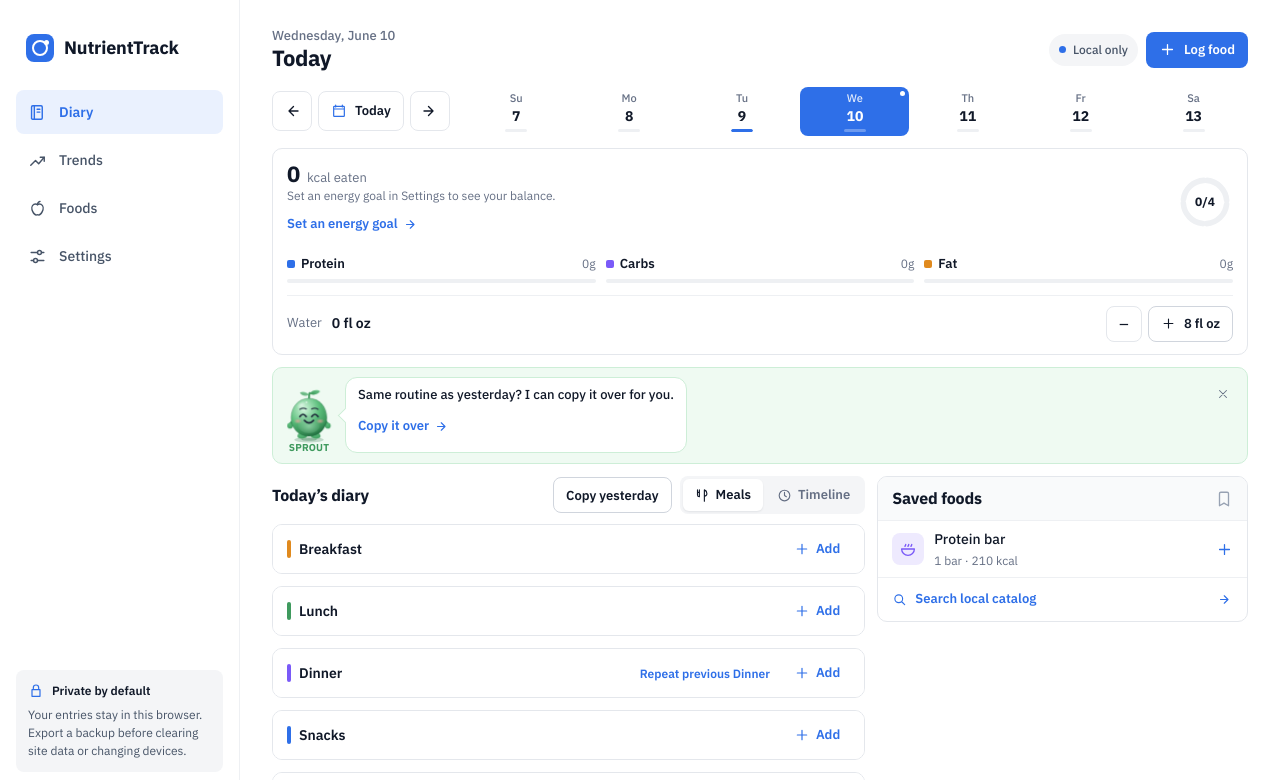
Test case: quick add from the Log food sheet › saves a new entry copying a recent catalog entry snapshot verbatim
Click the button "Log food" at (1197, 50), box [1146,32,1248,68]
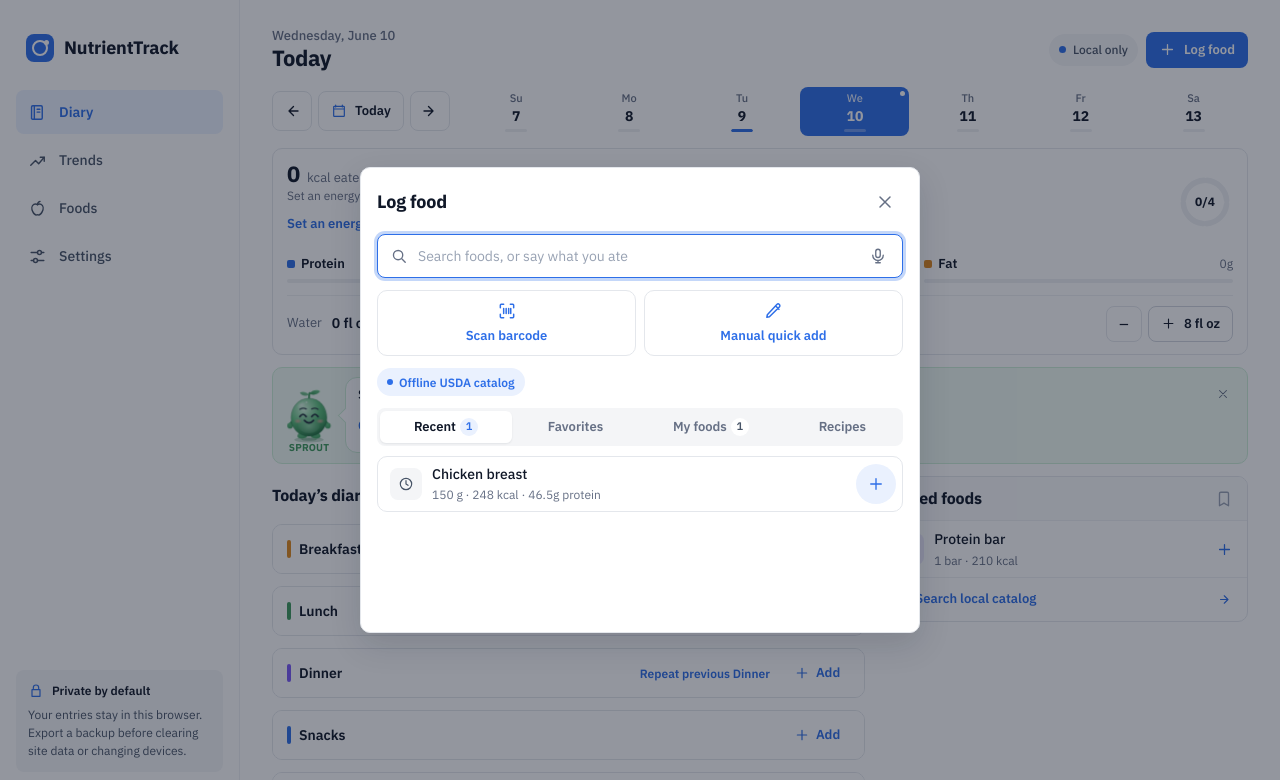
Click the button named "Quick add Chicken breast" at (876, 484), box [856,464,896,504]
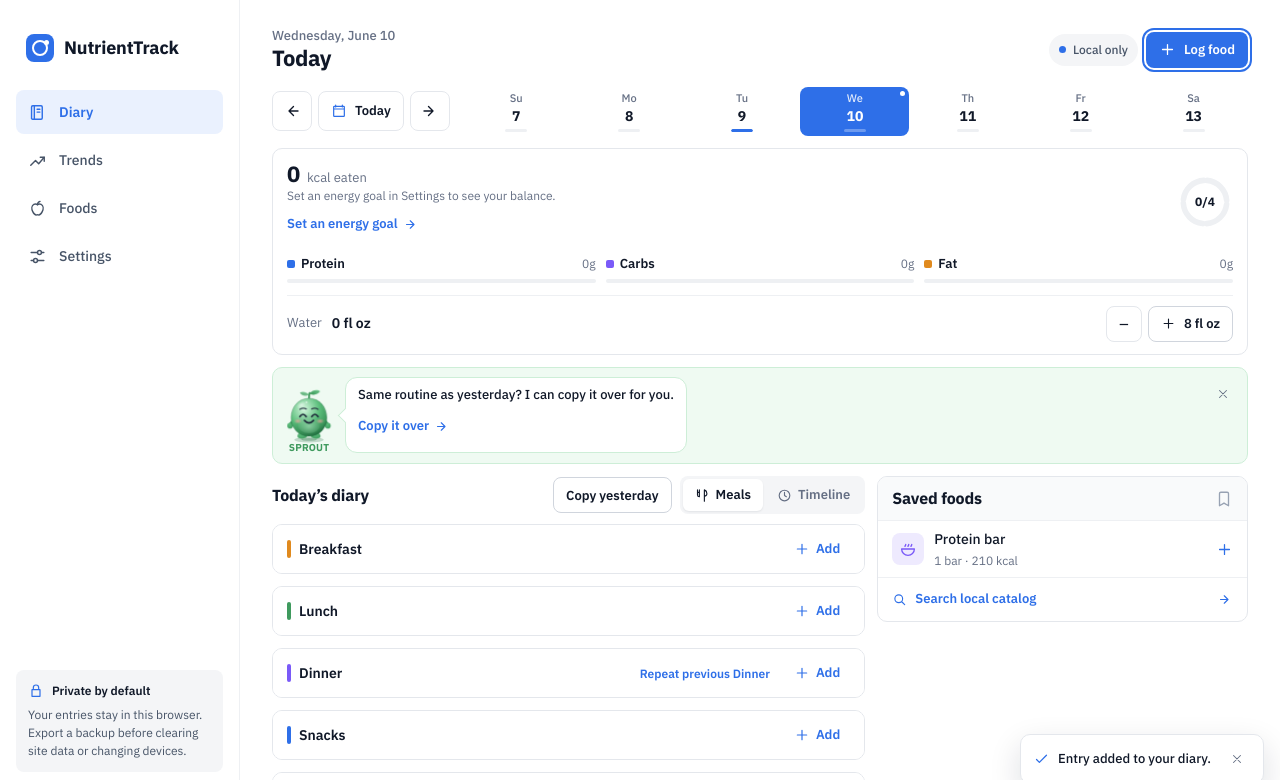
Expected: the dialog is gone
